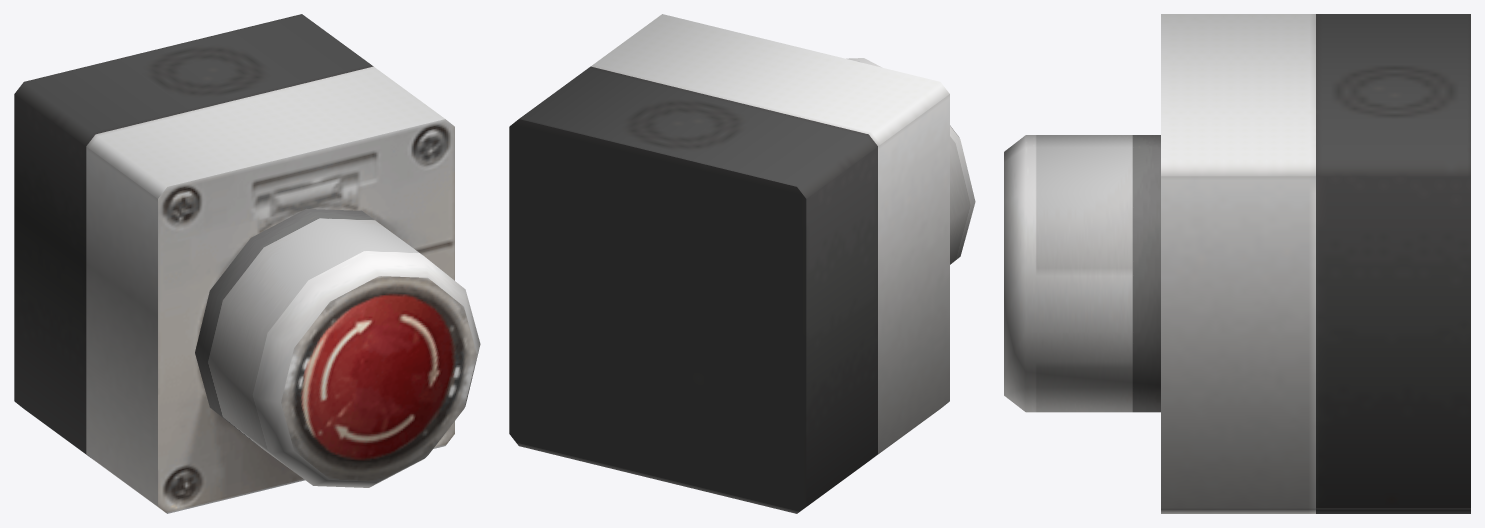
File: emrButton.gltf
3 views of the same model, side by side, from view 1: azimuth 30°, elevation 25°; view 2: azimuth 150°, elevation 25°; view 3: azimuth 270°, elevation 25° (orthographic). The views are drawn at different scales.
Parts seen in each view (by area): view 1: emrButton; view 2: emrButton; view 3: emrButton.
Boxes of the visible parts, x1=… form: emrButton: x1=14, y1=14, x2=480, y2=513; emrButton: x1=509, y1=14, x2=975, y2=513; emrButton: x1=1004, y1=14, x2=1470, y2=513.
Size of the model in its own units: 0.95 by 1 by 1.2.
1 material, 1 textured.
